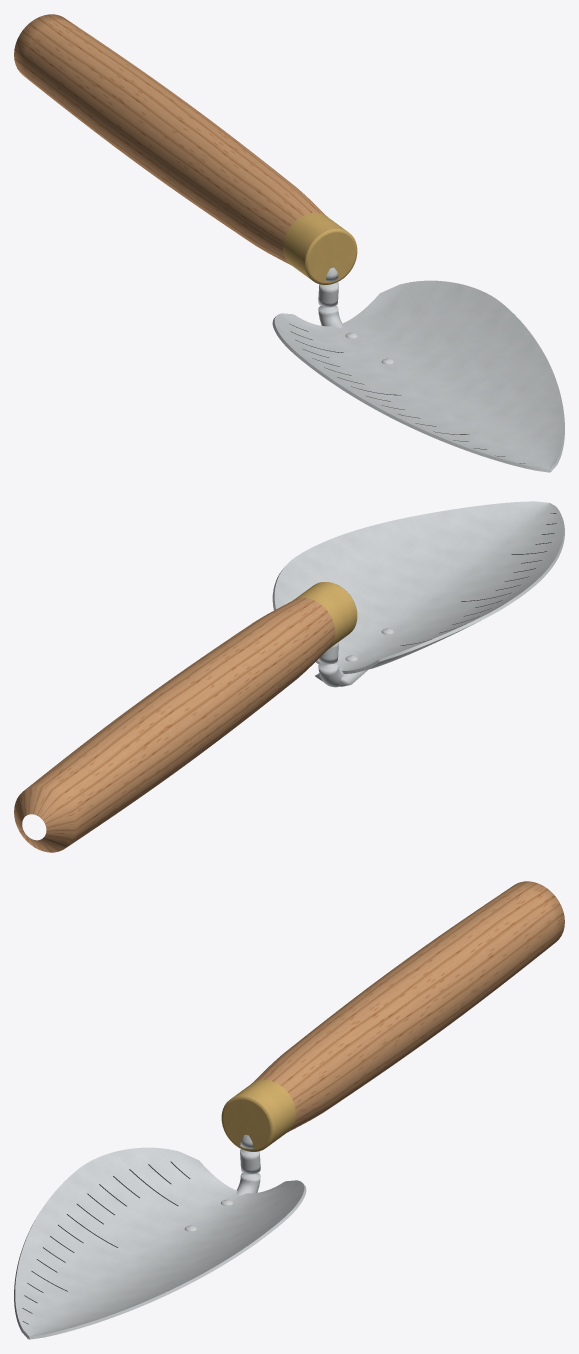
Rendered from dig_trowel.hero.glb.
The picture shows the model from 3 angles, top to bottom: view 1: azimuth 30°, elevation 25°; view 2: azimuth 150°, elevation 25°; view 3: azimuth 330°, elevation 25°; orthographic projection.
Visible parts, largest first — view 1: Tool; view 2: Tool; view 3: Tool.
Boxes of the visible parts, left/top/right/bottom form: Tool: left=14, top=14, right=564, bottom=472; Tool: left=14, top=501, right=564, bottom=852; Tool: left=14, top=881, right=564, bottom=1339.
Bounding box in the file's own units: 0.1015 × 0.0552 × 0.4363.
5 materials, 5 textured.
